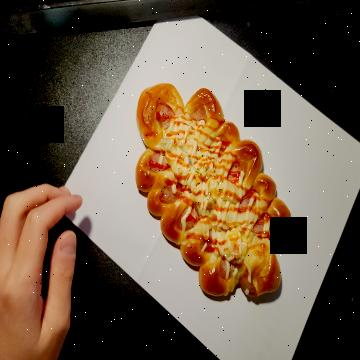pizza_bread: (135, 82, 289, 304)
